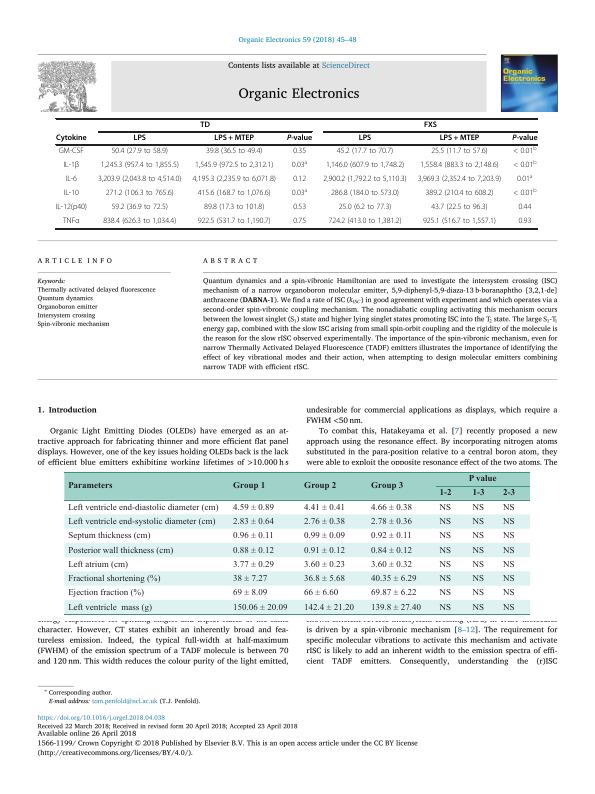borderless: (63, 470, 530, 614), (54, 117, 537, 228)
cell: (66, 503, 219, 513), (66, 517, 216, 527), (66, 546, 174, 556), (66, 574, 161, 584), (66, 531, 151, 542), (191, 175, 277, 185), (322, 175, 408, 185), (66, 603, 152, 613), (66, 588, 144, 599), (97, 175, 182, 185), (417, 175, 502, 185), (100, 161, 180, 171), (194, 161, 274, 171), (325, 161, 405, 171), (419, 161, 499, 171), (197, 189, 272, 199), (102, 217, 177, 227), (197, 217, 272, 227), (327, 217, 402, 227), (422, 217, 497, 227), (105, 189, 175, 199), (330, 189, 400, 199), (424, 189, 494, 199), (203, 203, 265, 213), (66, 560, 128, 570), (110, 147, 169, 157), (430, 147, 489, 157), (110, 203, 169, 213), (430, 203, 489, 213), (205, 147, 263, 157), (336, 147, 394, 157), (232, 603, 288, 613), (338, 203, 392, 213), (370, 588, 417, 599), (303, 603, 354, 613), (370, 603, 421, 613), (370, 574, 417, 584), (232, 531, 274, 542), (303, 531, 345, 542), (370, 531, 412, 542), (67, 482, 113, 492), (213, 134, 255, 144), (232, 503, 274, 513), (303, 503, 345, 513), (370, 503, 412, 513), (232, 517, 274, 527), (303, 517, 345, 527), (370, 517, 412, 527), (232, 546, 274, 556), (303, 546, 345, 556), (370, 546, 412, 556), (232, 560, 274, 570), (303, 560, 345, 570), (370, 560, 412, 570), (303, 574, 345, 584), (439, 134, 480, 144), (232, 588, 268, 599), (303, 588, 339, 599), (232, 574, 268, 584), (369, 482, 404, 492), (232, 482, 266, 492), (303, 482, 337, 492), (55, 203, 88, 213), (55, 134, 87, 144), (467, 475, 497, 485), (512, 146, 537, 157), (512, 160, 537, 171), (512, 188, 537, 199), (286, 134, 313, 144), (511, 134, 538, 144), (58, 147, 85, 157), (291, 160, 308, 171), (516, 174, 533, 185), (291, 188, 308, 199), (62, 161, 80, 171), (62, 217, 80, 227), (63, 189, 80, 199), (438, 531, 452, 542), (471, 531, 485, 542), (438, 588, 452, 599), (471, 588, 485, 599), (132, 134, 147, 144), (292, 147, 307, 157), (292, 175, 307, 185), (292, 203, 307, 213), (517, 203, 532, 213), (292, 217, 307, 227), (517, 217, 532, 227), (502, 531, 515, 542), (502, 588, 515, 599), (358, 134, 372, 144), (64, 175, 78, 185), (438, 489, 452, 499), (471, 489, 485, 499), (501, 489, 515, 499), (438, 503, 452, 513), (471, 503, 485, 513), (438, 517, 452, 527), (471, 517, 485, 527), (438, 546, 452, 556), (471, 546, 485, 556), (438, 560, 452, 570), (471, 560, 485, 570), (438, 574, 452, 584), (471, 574, 485, 584), (438, 603, 452, 613), (471, 603, 485, 613), (423, 121, 438, 130), (502, 503, 515, 513), (502, 517, 515, 527), (502, 546, 515, 556), (502, 560, 515, 570), (502, 574, 515, 584), (502, 603, 515, 613), (199, 121, 211, 130)
